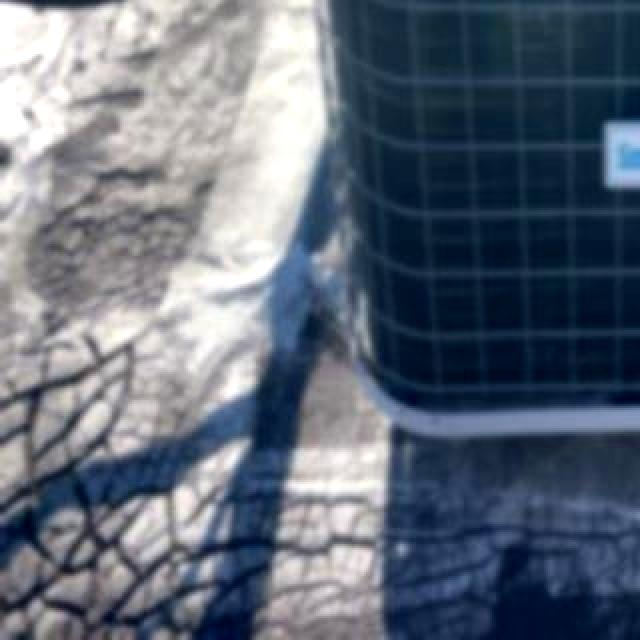SPLIT-SYSTEM: (258, 0, 640, 458)
